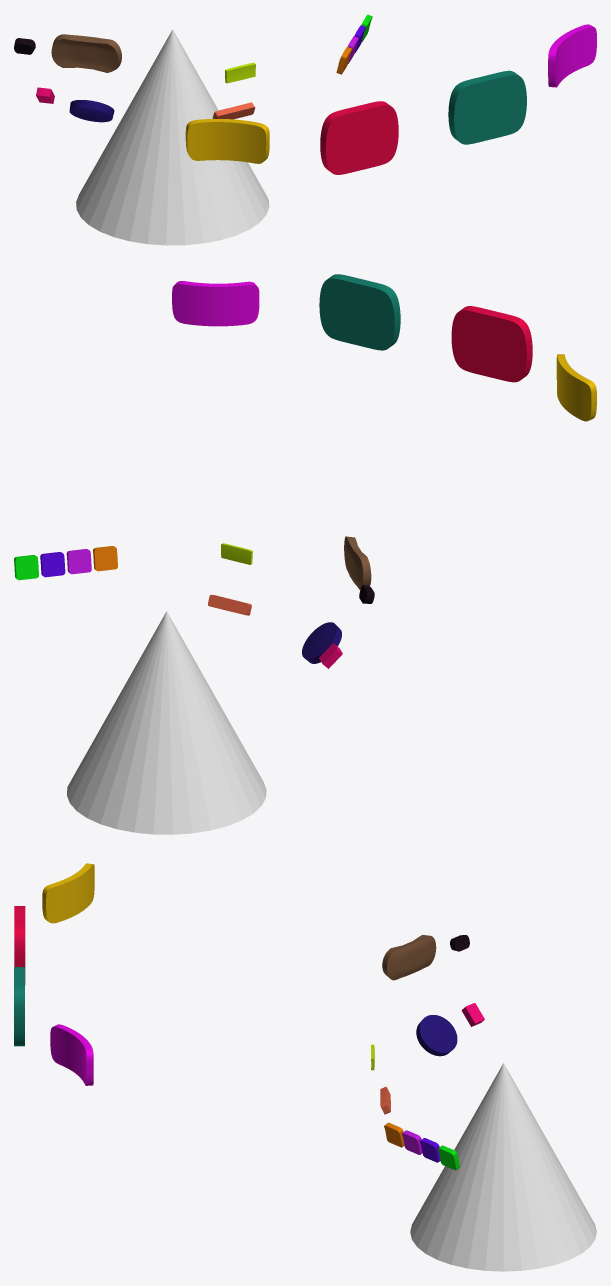
File: UVSScreeeens.fbx
The picture shows the model from 3 angles, top to bottom: view 1: azimuth 30°, elevation 25°; view 2: azimuth 150°, elevation 25°; view 3: azimuth 270°, elevation 25°; orthographic projection. The views are drawn at different scales.
Parts seen in each view (by area): view 1: Cone, ScreenTwo.001, ScreenTwo.002, ScreeenThree.002, Mk4.001, ScreeenThree.001, Maquina3Base.001, Maquina1Base.001, Maquina1Base.002; view 2: Cone, ScreenTwo.001, ScreenTwo.002, ScreeenThree.001, ScreeenThree.002, Maquina3Base.001, Mk4.001; view 3: Cone, ScreeenThree.002, ScreeenThree.001, Mk4.001, Maquina3Base.001, ScreenTwo.001, ScreenTwo.002.
Part boxes in pixels (x1,y1,x2,y2): Cone: (76,29,269,245); ScreenTwo.001: (448,70,526,144); ScreenTwo.002: (320,101,398,174); ScreeenThree.002: (185,119,269,163); Mk4.001: (51,34,121,72); ScreeenThree.001: (548,24,596,87); Maquina3Base.001: (69,100,114,122); Maquina1Base.001: (212,102,255,119); Maquina1Base.002: (225,62,255,83); Cone: (67,611,266,834); ScreenTwo.001: (319,274,400,350); ScreenTwo.002: (451,306,532,382); ScreeenThree.001: (172,281,259,326); ScreeenThree.002: (556,354,596,421); Maquina3Base.001: (302,622,341,663); Mk4.001: (344,536,371,589); Cone: (410,1063,596,1271); ScreeenThree.002: (42,863,94,923); ScreeenThree.001: (50,1024,93,1085); Mk4.001: (382,935,436,980); Maquina3Base.001: (416,1015,457,1056); ScreenTwo.001: (14,967,24,1046); ScreenTwo.002: (14,906,25,984).
Bounding box in the file's own units: 487 × 337 × 624.
